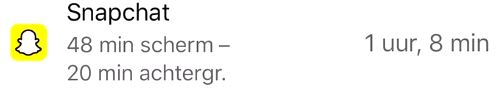name: (58, 1, 181, 26)
time: (62, 31, 137, 56), (64, 60, 136, 85)
